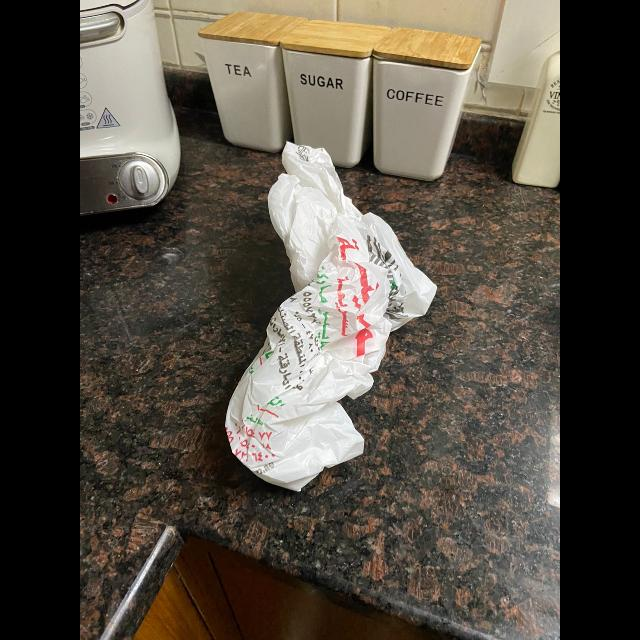plastic_bag: (226, 140, 436, 493)
